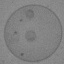small: (25, 31, 37, 42), (25, 10, 35, 21), (9, 30, 18, 42)
